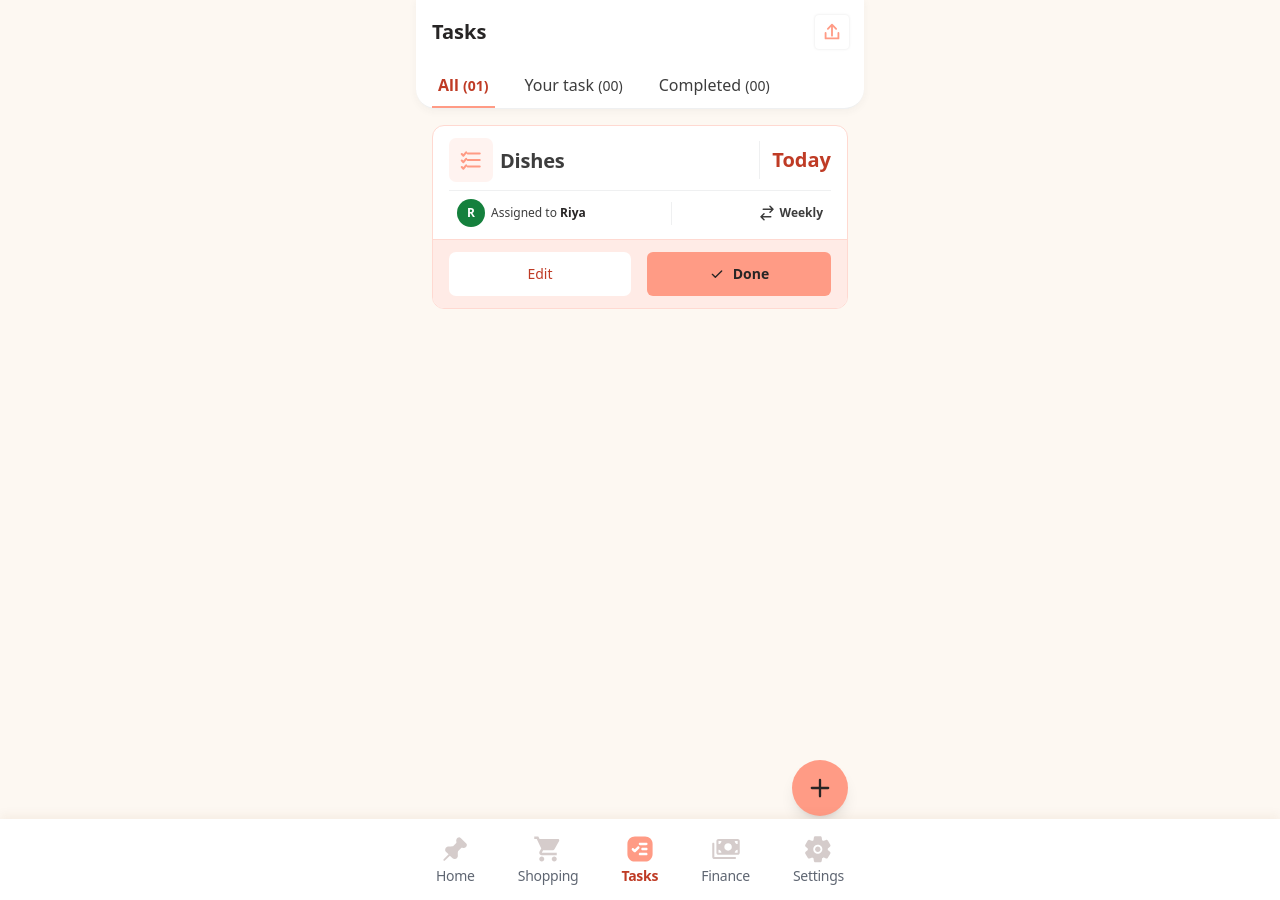
Test: marking a chore done › completes with its version and says "Nice work — task completed."
Click the button with aria-label "Mark as done" at (739, 274), box [647,252,831,296]
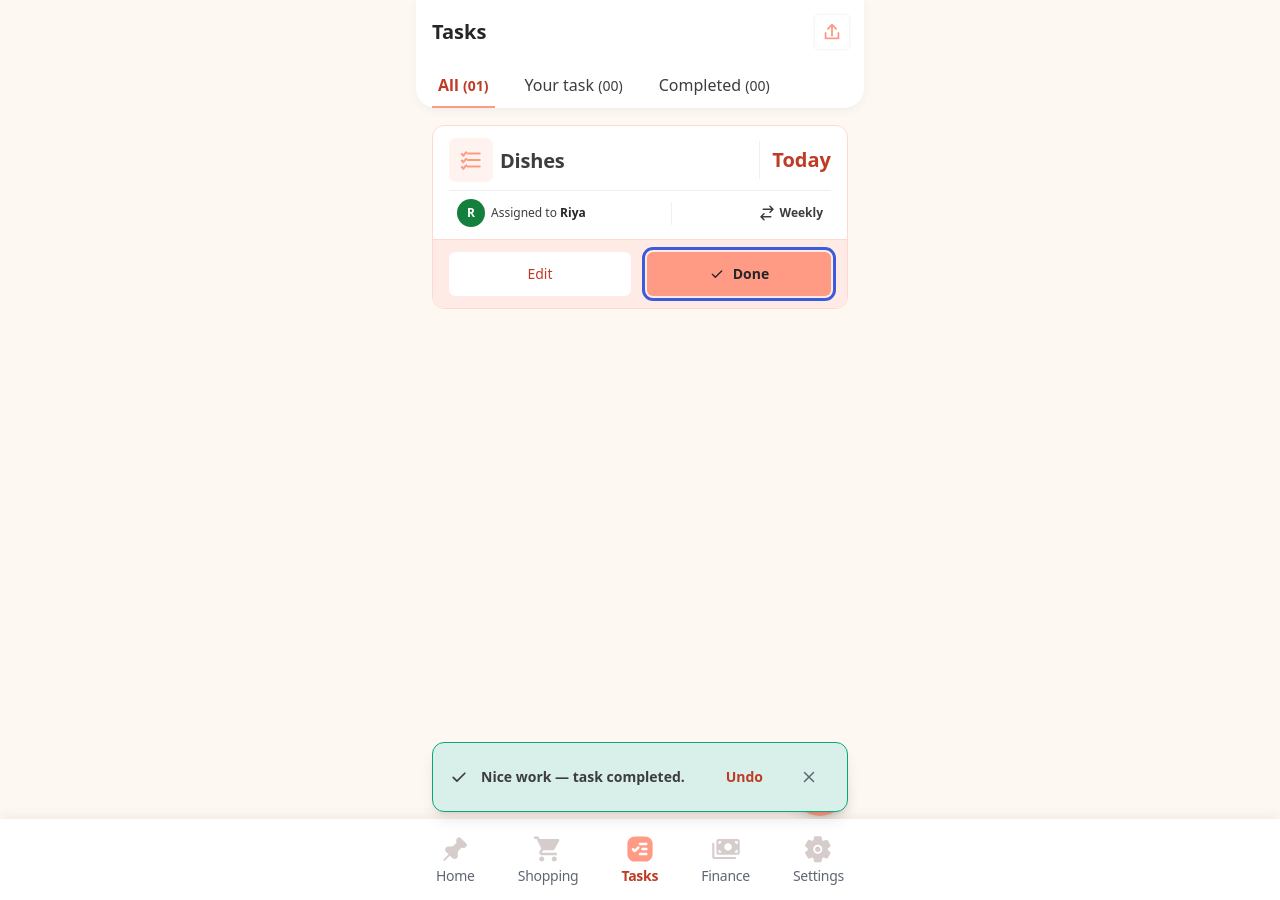
Check: the text "Nice work — task completed." is shown, box [481,767,702,787]
